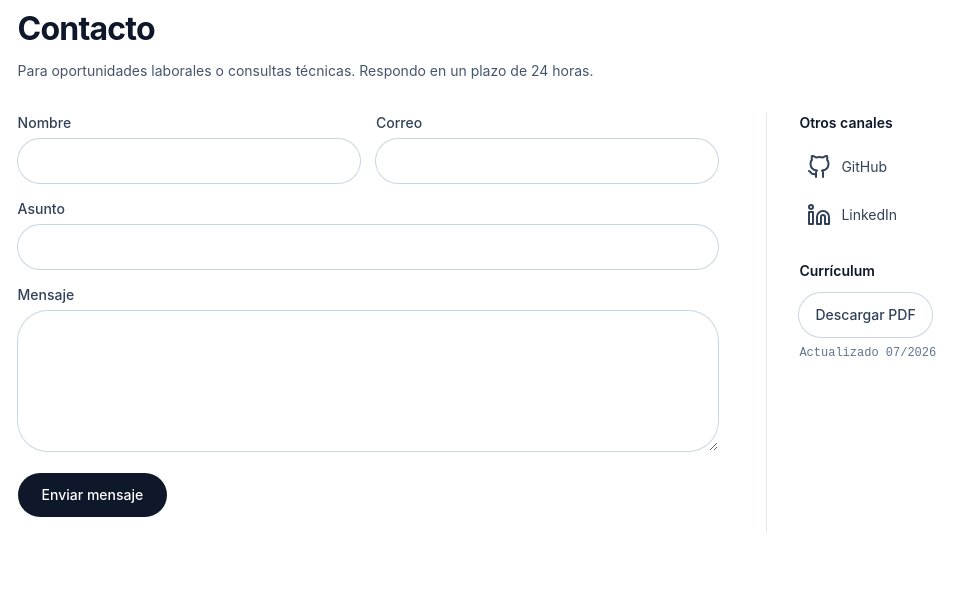
Test: <ContactForm /> › muestra el estado de error cuando la API responde algo distinto de success
The image size is (953, 595).
Type "Ada" into the field labelled "Nombre" at (189, 161), box [18,139,360,183]
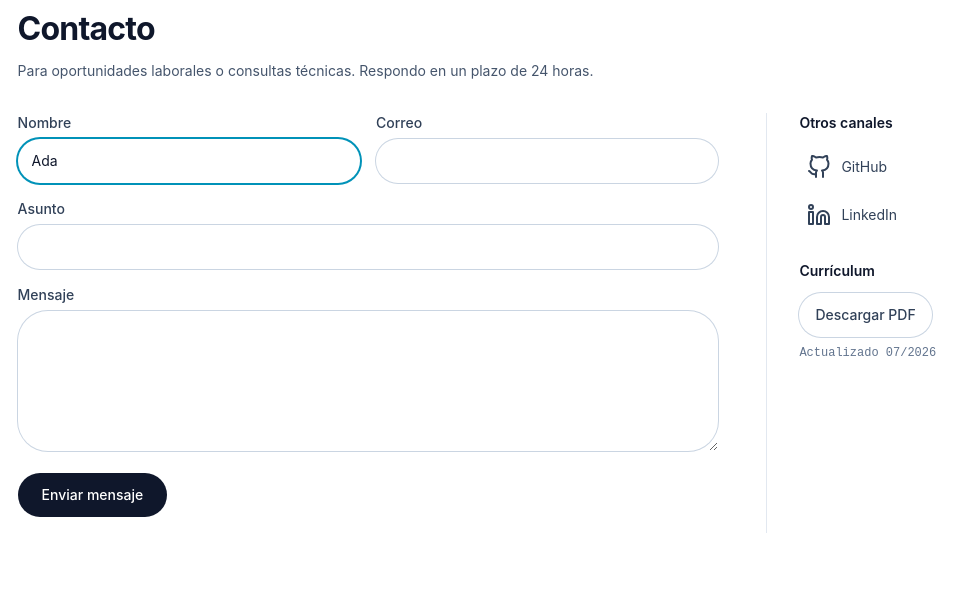
Type "ada@example.com" into the field labelled "Correo" at (547, 161), box [376,139,718,183]
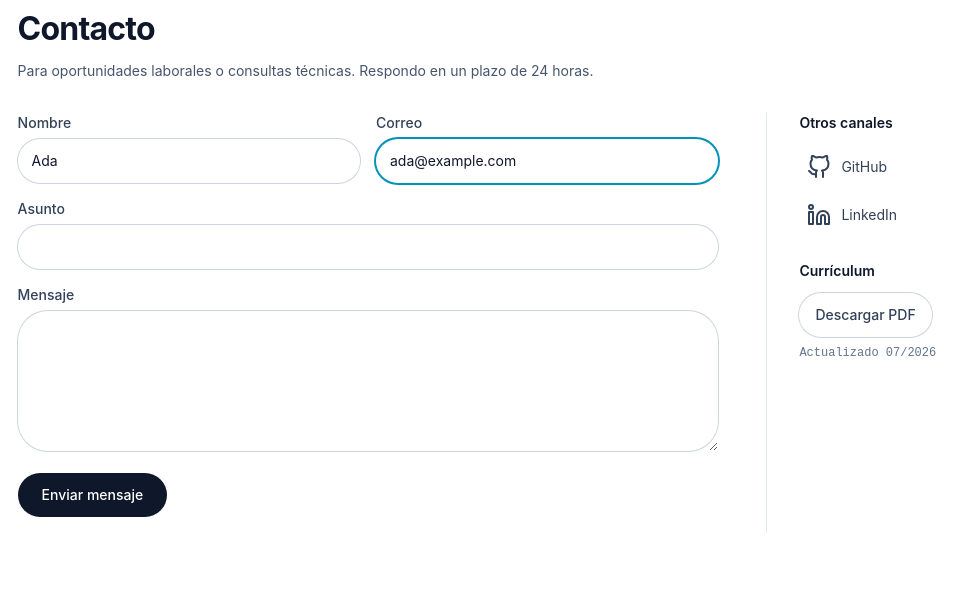
Type "Hola" into the field labelled "Asunto" at (368, 247), box [18,225,718,269]
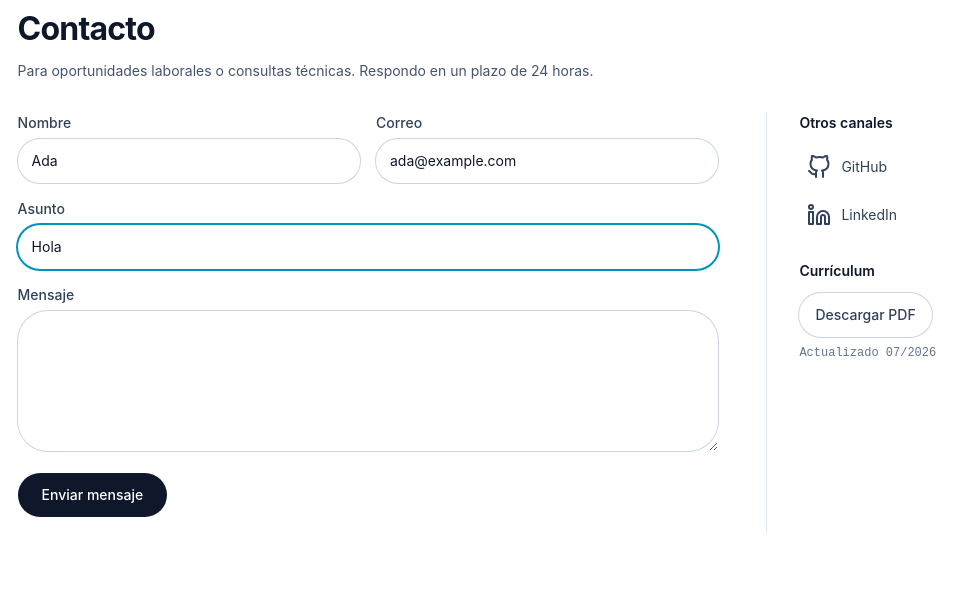
Type "Mensaje de prueba" into the text box labelled "Mensaje" at (368, 381), box [18,311,718,451]
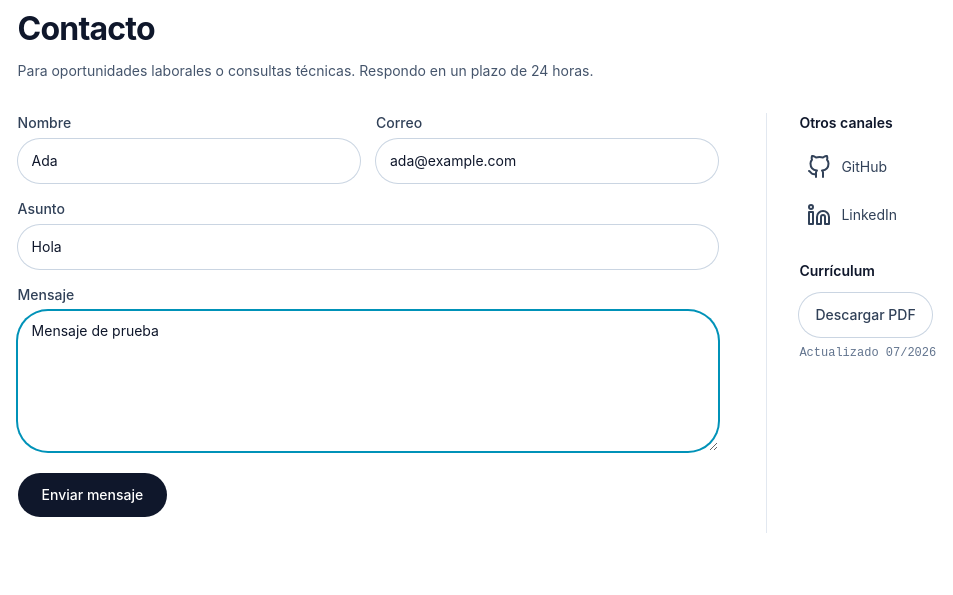
Click the button "Enviar mensaje" at (92, 495), box [18,473,167,517]
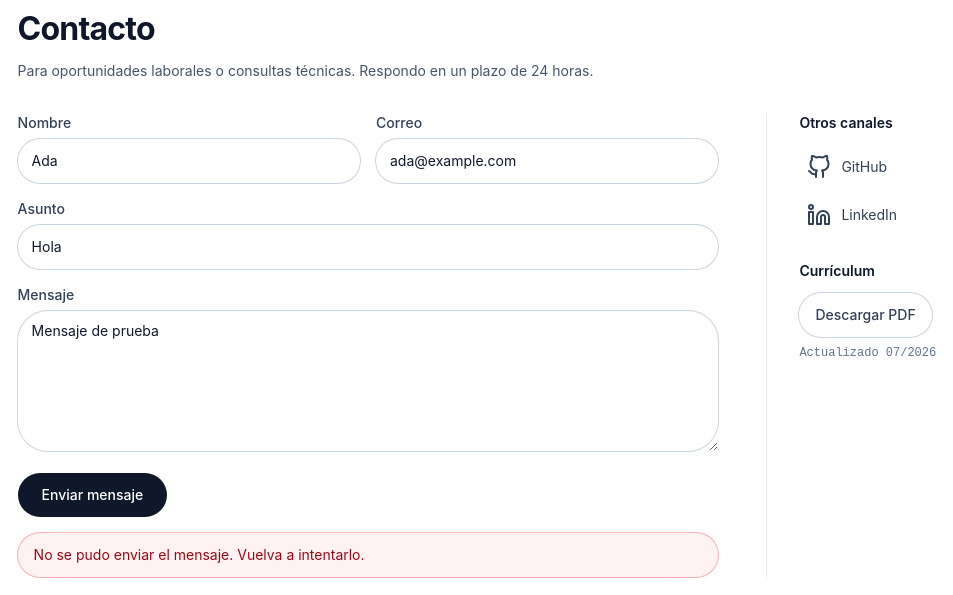
Check: the text "No se pudo enviar el mensaje. Vuelva a intentarlo." is shown, box [18,533,718,577]
